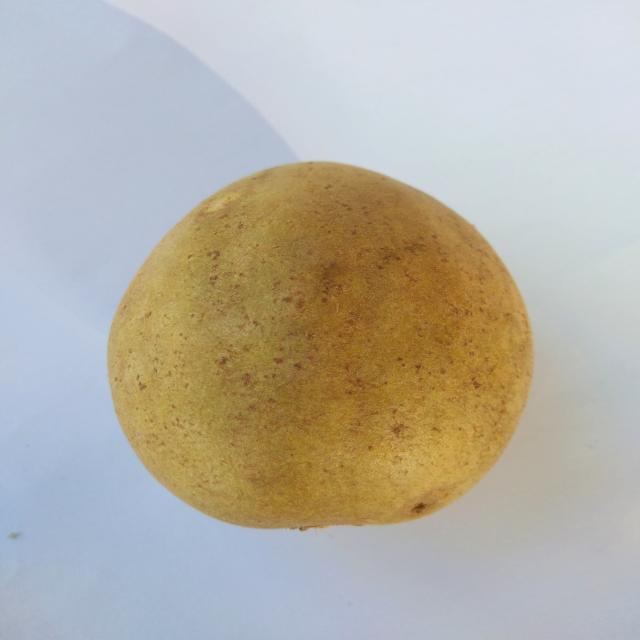mentah: (104, 155, 538, 536)
